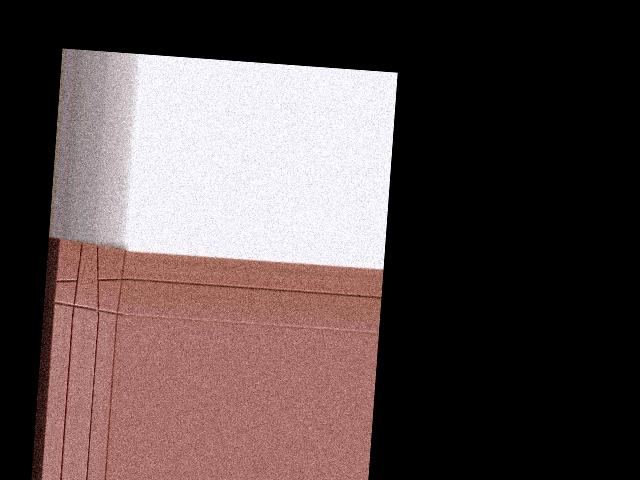chocolate: (49, 236, 129, 319)
